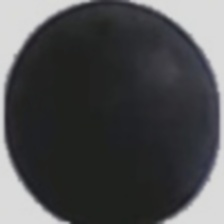grapes: (3, 31, 188, 223)
